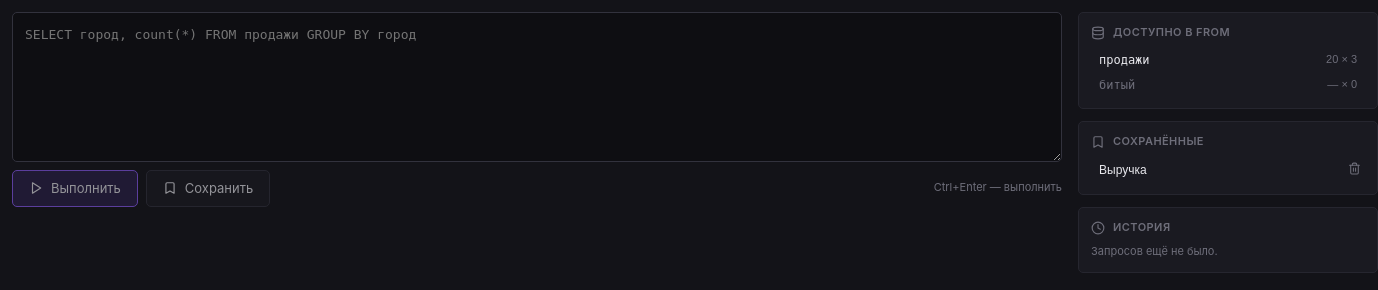
Scenario: окно SQL › сохранённый запрос открывается по имени
Click the button "Выручка" at (1216, 170), box [1091, 159, 1340, 181]
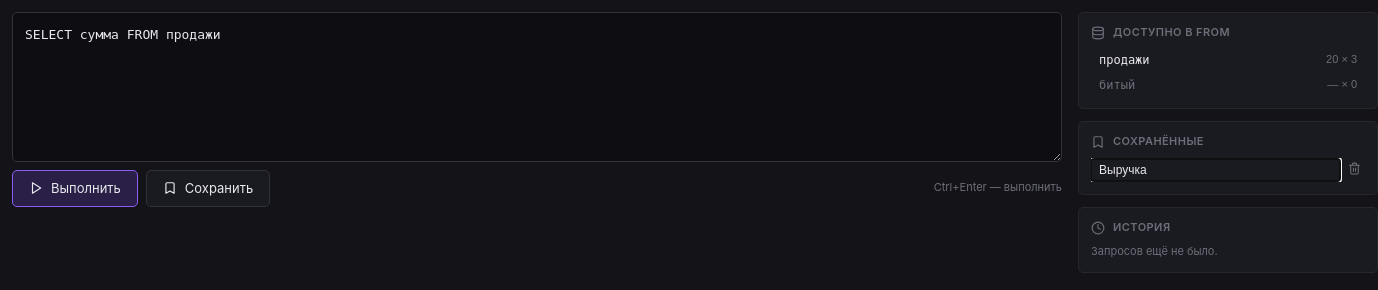
Check: the text box named "Текст SQL-запроса" holds "SELECT сумма FROM продажи", box [12, 12, 1062, 162]
